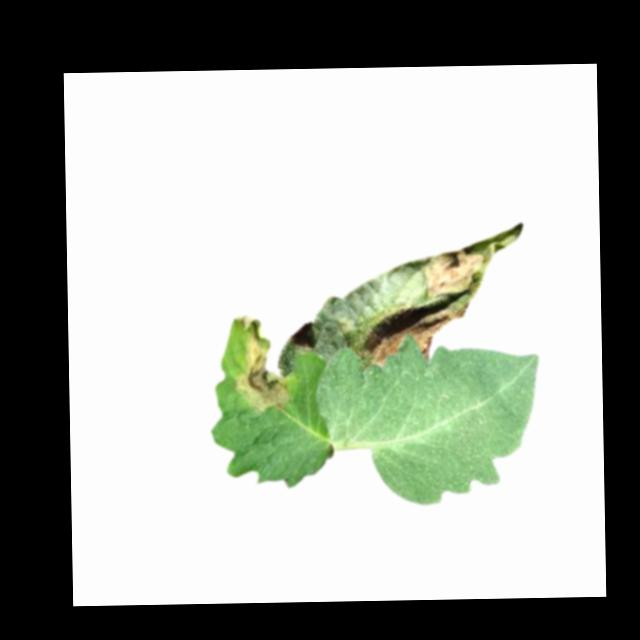Late_blight: (228, 313, 293, 416), (361, 309, 469, 365), (423, 248, 488, 300)
healthy: (314, 333, 542, 508)
